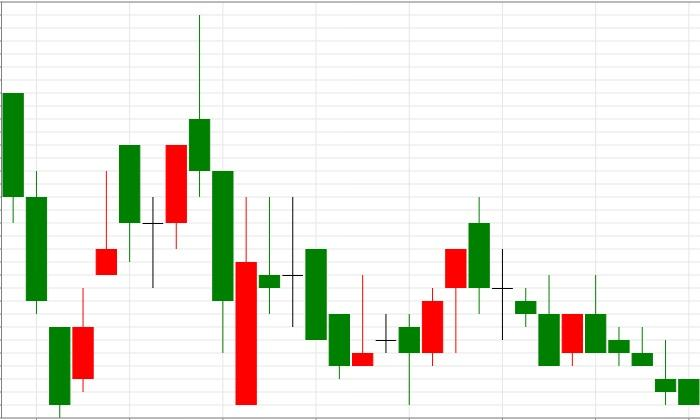hanging_man_fall: (352, 248, 466, 406)
